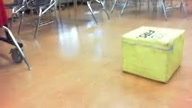cube: (121, 25, 186, 84)
